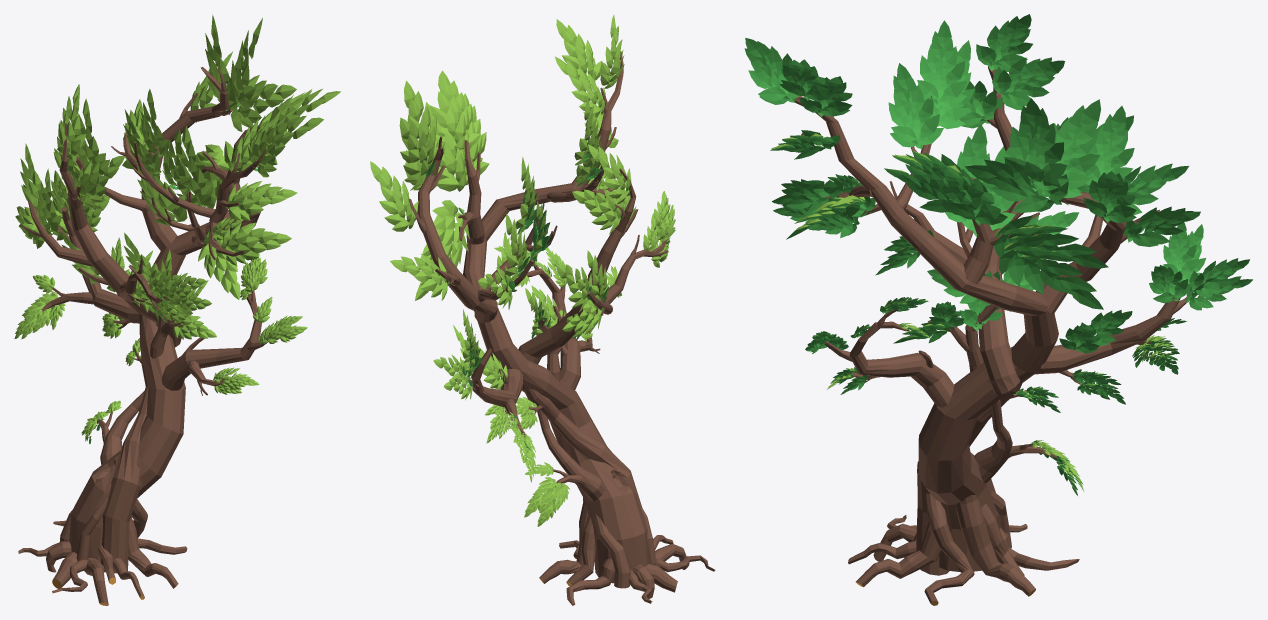
The model's file is big_tree.glb.
3 renders of one model, left to right at view 1: azimuth 30°, elevation 25°; view 2: azimuth 150°, elevation 25°; view 3: azimuth 270°, elevation 25°, orthographic. The views are drawn at different scales.
Visible parts, largest first — view 1: group1406566609_05cdb1, group1406566609_89ace1; view 2: group1406566609_89ace1, group1406566609_05cdb1, group1406566609_75f4e2; view 3: group1406566609_75f4e2, group1406566609_89ace1, group1406566609_05cdb1.
Boxes of the visible parts, <box> form: group1406566609_05cdb1: <box>14,14,340,441</box>; group1406566609_89ace1: <box>18,67,268,604</box>; group1406566609_89ace1: <box>408,51,714,605</box>; group1406566609_05cdb1: <box>370,15,675,526</box>; group1406566609_75f4e2: <box>426,126,628,451</box>; group1406566609_75f4e2: <box>744,14,1252,495</box>; group1406566609_89ace1: <box>794,66,1204,603</box>; group1406566609_05cdb1: <box>771,133,1191,491</box>.
Size of the model in its own units: 3.6 by 6 by 4.62.
